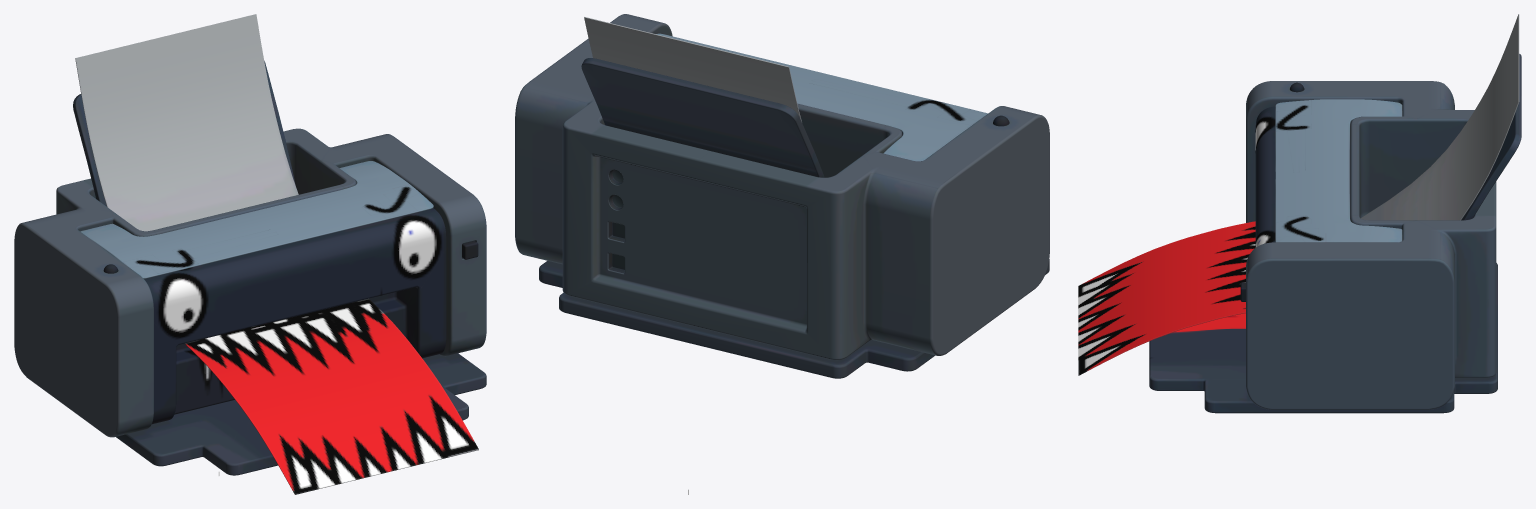
Rendered from angryPrinterMponster.fbx.
3 views of the same model, side by side, from view 1: azimuth 30°, elevation 25°; view 2: azimuth 150°, elevation 25°; view 3: azimuth 270°, elevation 25° (orthographic). The views are drawn at different scales.
Parts seen in each view (by area): view 1: node_id55; view 2: node_id55; view 3: node_id55.
Part boxes in pixels (left/top/right/bottom): node_id55: left=14, top=14, right=486, bottom=494; node_id55: left=515, top=14, right=1049, bottom=378; node_id55: left=1078, top=14, right=1521, bottom=413.
Size of the model in its own units: 0.512 by 0.5648 by 0.5346.
2 materials, 2 textured.
